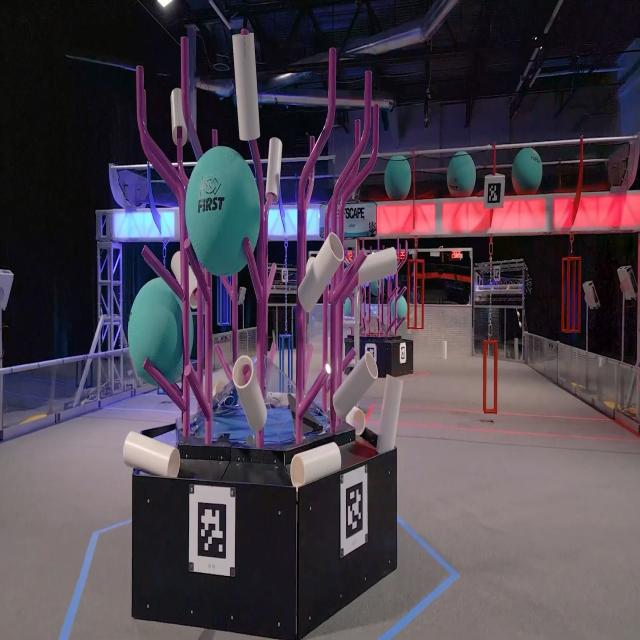Algae: (184, 144, 260, 276), (127, 276, 194, 387), (511, 146, 542, 194), (446, 150, 476, 198), (384, 154, 411, 200), (390, 294, 407, 319)
Coral: (297, 231, 344, 312), (332, 350, 378, 420), (232, 28, 260, 141), (123, 429, 180, 478), (232, 354, 267, 432), (290, 439, 341, 486), (376, 372, 402, 452), (358, 246, 398, 284), (265, 136, 282, 202), (171, 88, 187, 146)
